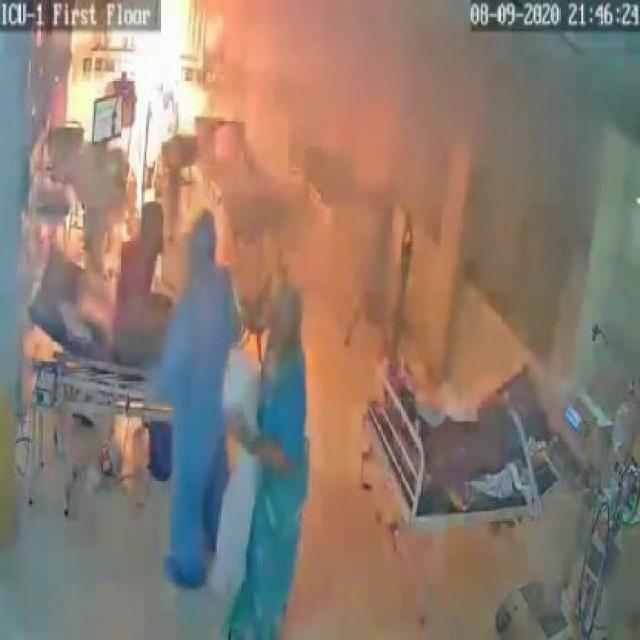fire: (111, 11, 204, 171)
smoke: (230, 9, 587, 265)
